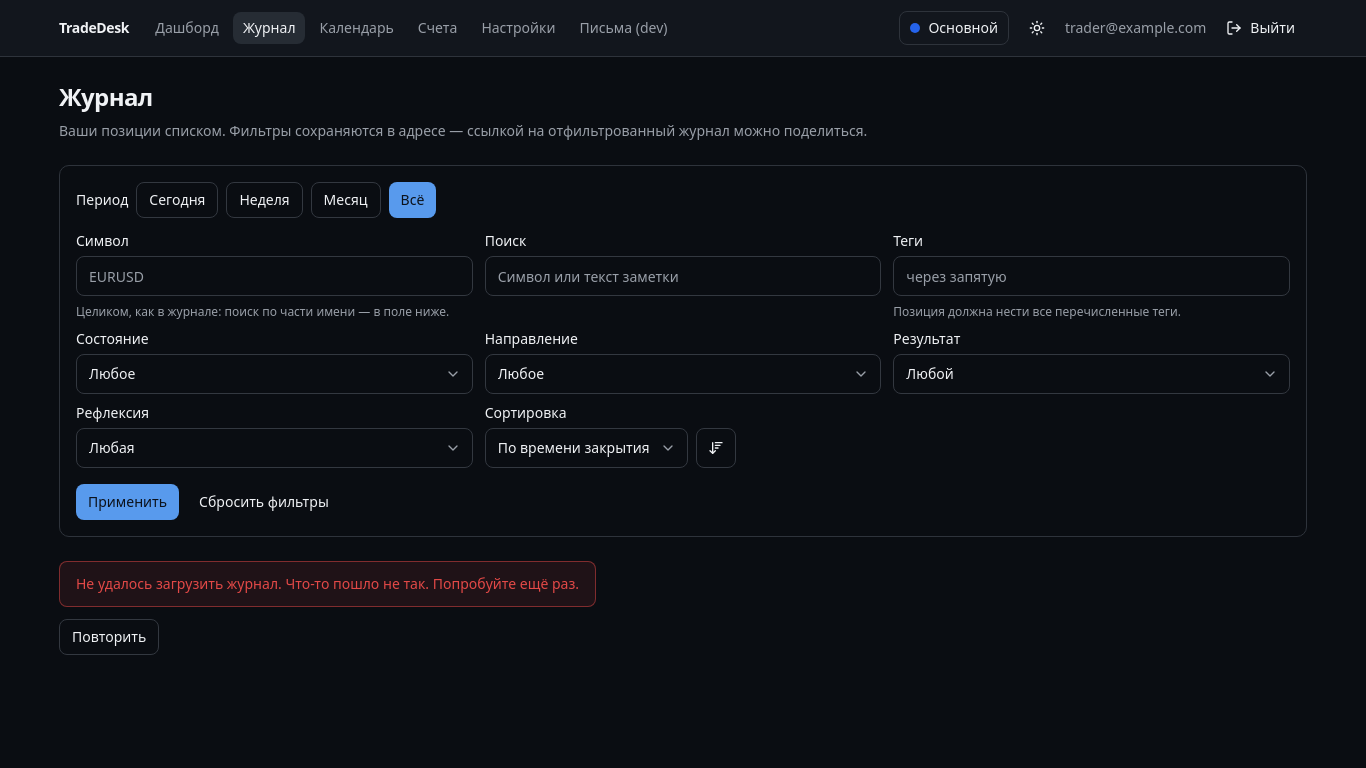
Scenario: журнал: пустые состояния › ошибка сервера показана человеку и повторяется кнопкой
Expected: the heading "Журнал" is shown, x1=59 y1=80 x2=153 y2=113
Expected: the message shows "Не удалось загрузить журнал.", x1=76 y1=574 x2=282 y2=593
Click the button "Повторить" at (109, 637), box x1=59 y1=619 x2=159 y2=655
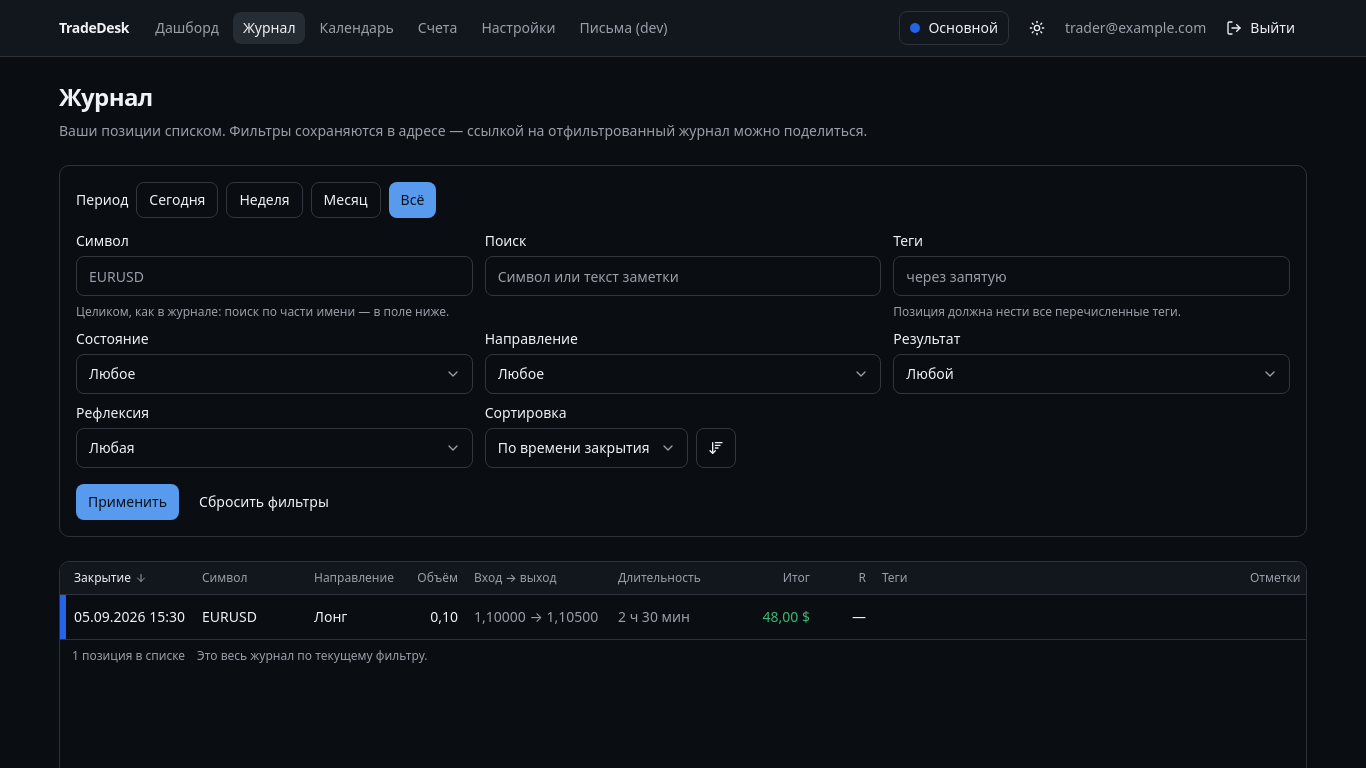
Result: the link "EURUSD" is shown at x1=202 y1=607 x2=257 y2=626
